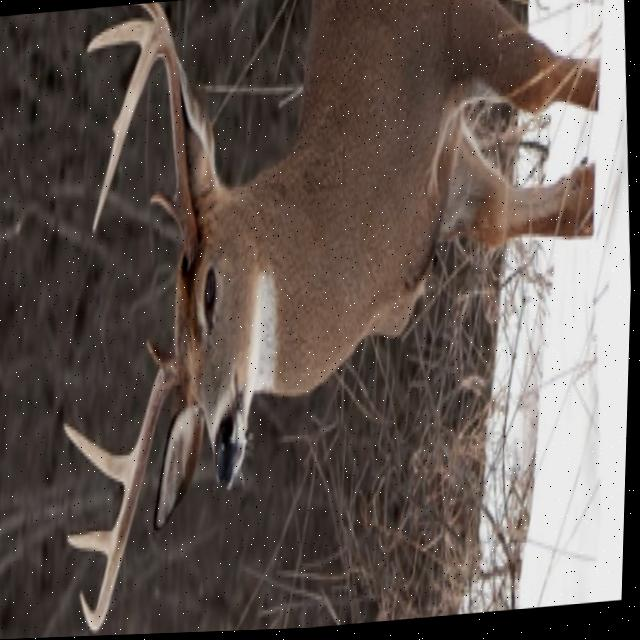L-F: (92, 18, 198, 265)
L-G1: (149, 192, 179, 228)
R-G1: (147, 341, 168, 372)
R-G2: (65, 424, 137, 495)
R-G3: (69, 531, 116, 557)
